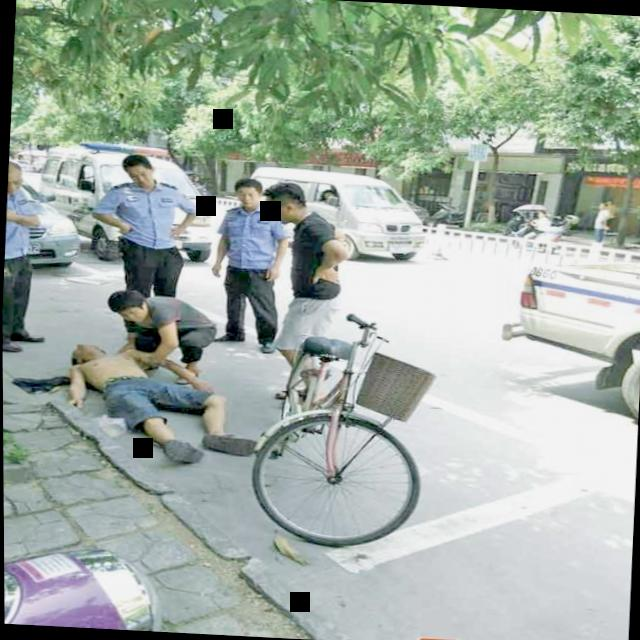Fall-Detected: (41, 329, 286, 476)
